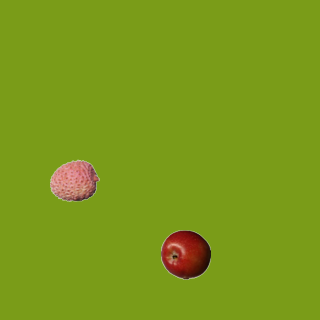Apple Braeburn: (160, 229, 210, 279)
Lychee: (49, 155, 99, 205)
